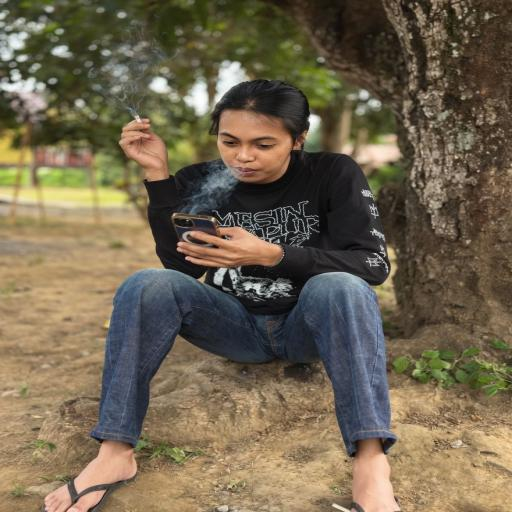pegang rokok: (106, 93, 176, 168)
